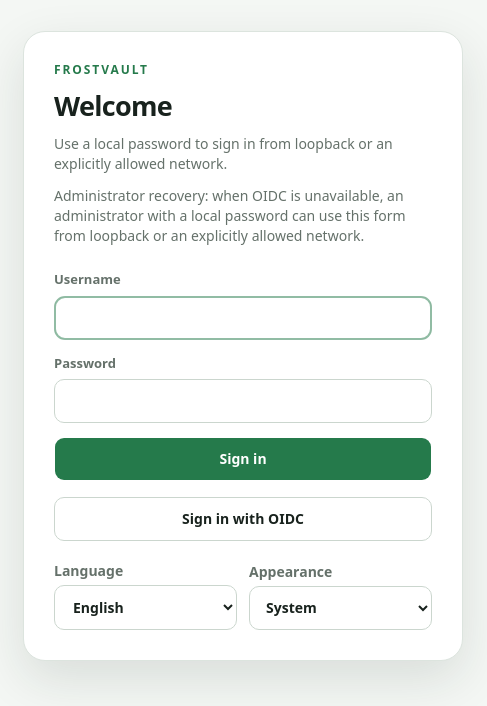
Test: LoginPage local sign-in › shows a localized error and does not redirect when credentials are wrong
Type "admin" into the field labelled "Username" at (243, 318), box left=54, top=296, right=432, bottom=340
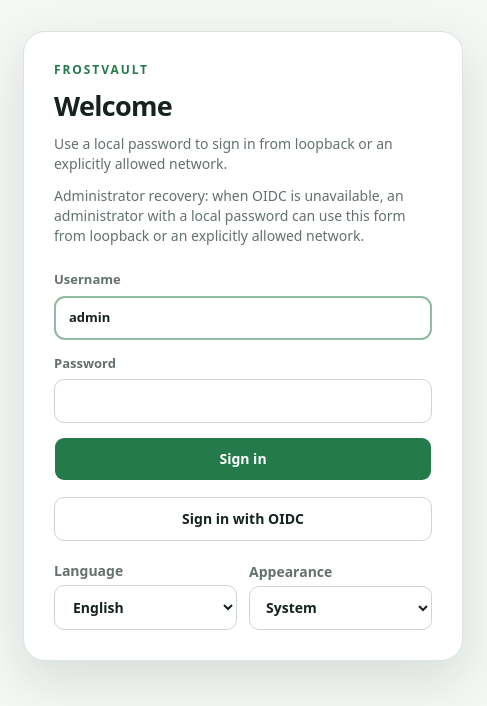
Type "wrong" into the password field labelled "Password" at (243, 401), box left=54, top=379, right=432, bottom=423
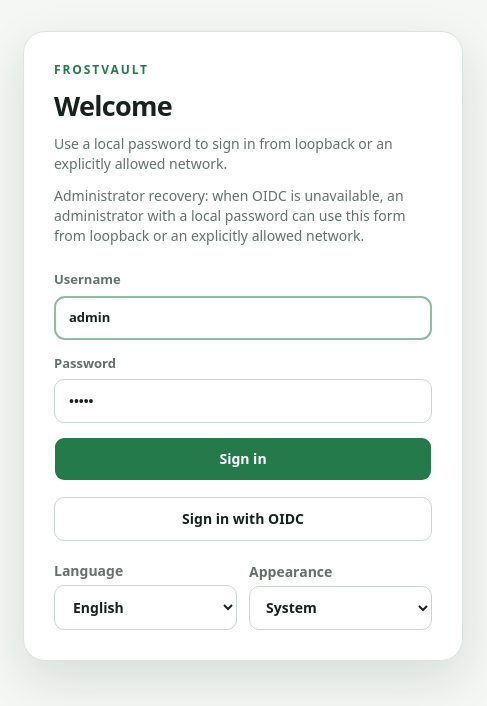
Click the button "Sign in" at (243, 459), box left=54, top=437, right=432, bottom=481
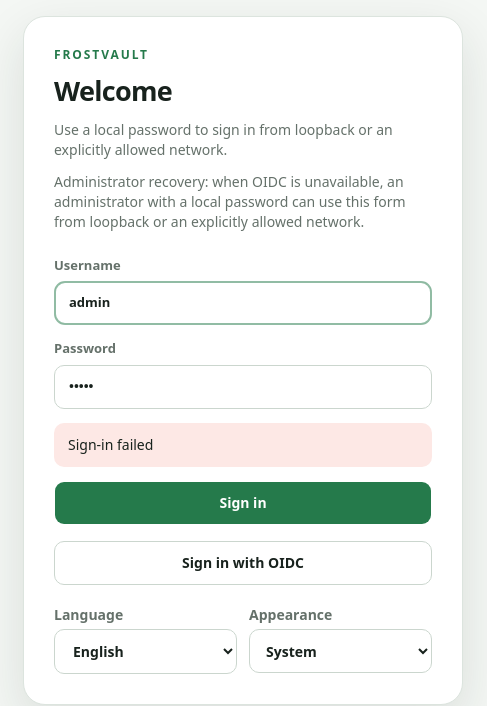
Expected: the message reads "Sign-in failed", left=68, top=434, right=153, bottom=454
